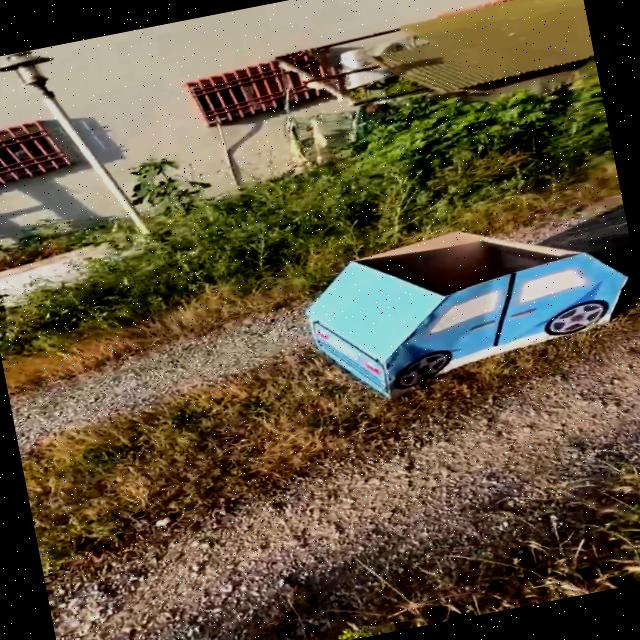blue_car: (247, 171, 640, 438)
